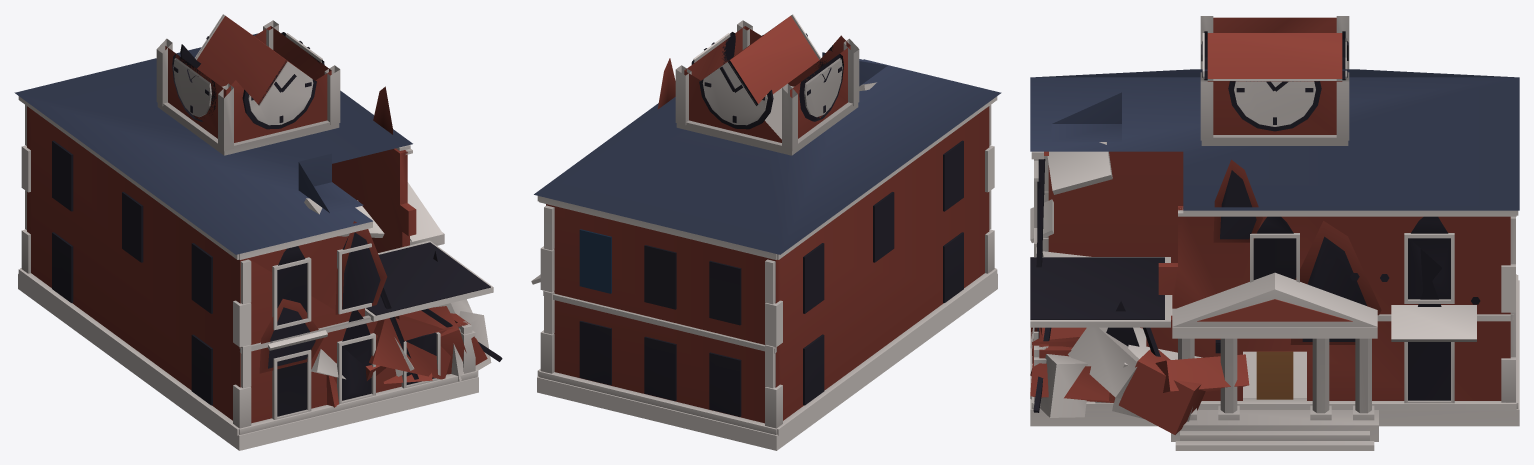
File: bld.town-hall.w5.lod2.glb
3 views of the same model, side by side, from view 1: azimuth 30°, elevation 25°; view 2: azimuth 150°, elevation 25°; view 3: azimuth 270°, elevation 25° (orthographic). The views are drawn at different scales.
Parts seen in each view (by area): view 1: body, roof; view 2: body, roof; view 3: body, roof, door_front.
Boxes of the visible parts, x1,y1,x2,y2 form: body: (18,14,502,450); roof: (14,33,412,254); body: (531,14,997,450); roof: (534,52,1001,254); body: (1030,16,1519,450); roof: (1030,69,1519,210); door_front: (1256,351,1293,399).
Bounding box in the file's own units: 12.05 × 12 × 16.
